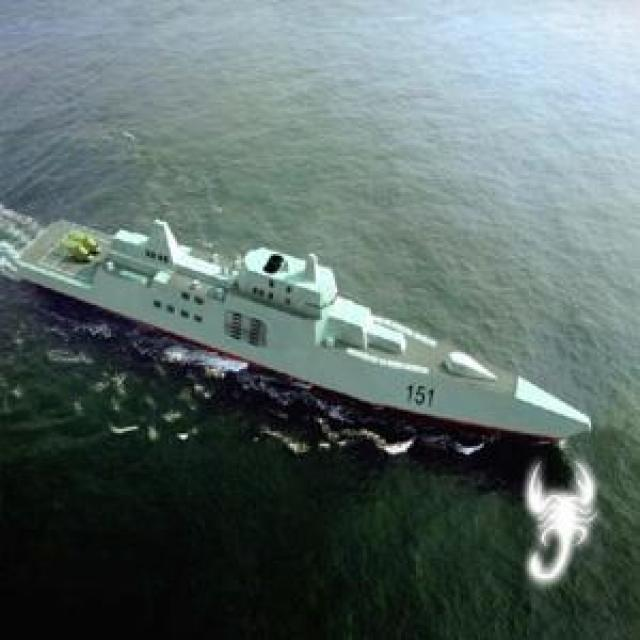navalvessels: (23, 194, 586, 471)
